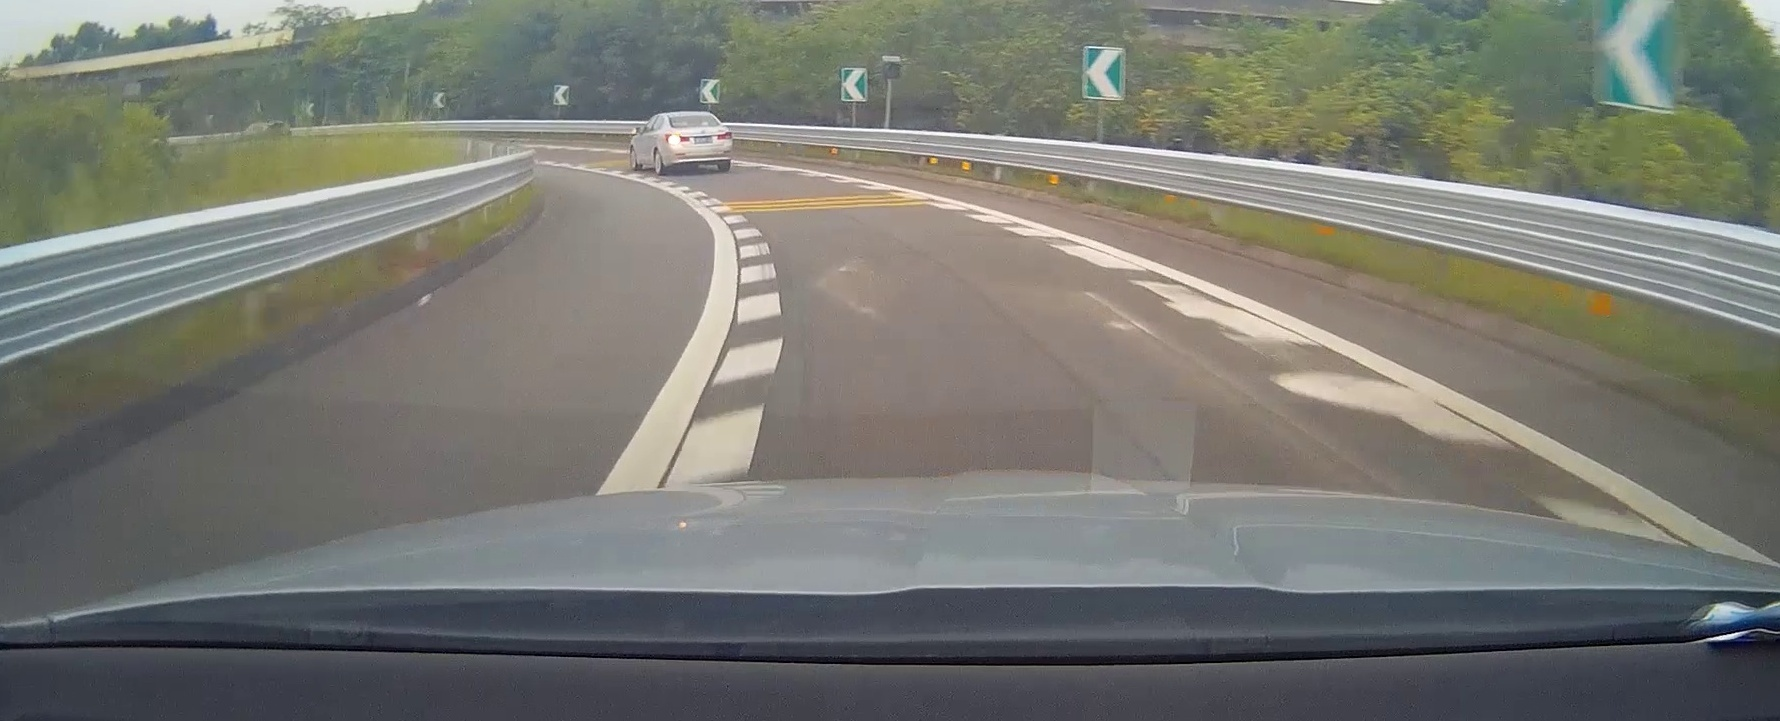L_light: (666, 134, 688, 143)
R_light: (716, 131, 731, 140)
T_light: (692, 123, 703, 127)
day-left: (665, 111, 733, 175)
